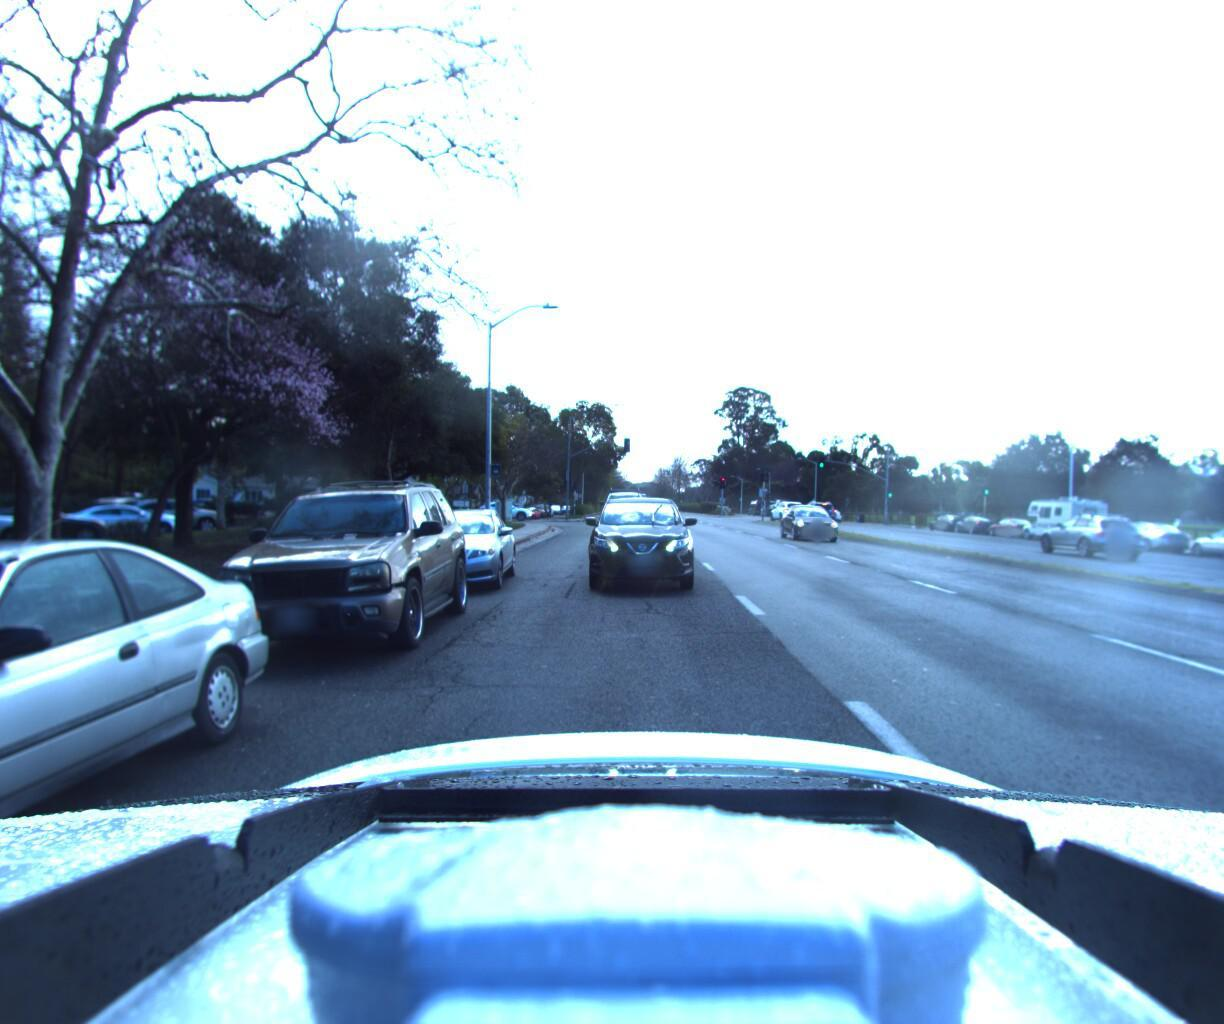car: (0, 524, 288, 1024), (191, 473, 470, 672), (570, 499, 692, 606), (381, 513, 514, 608), (1011, 517, 1125, 564), (1093, 528, 1194, 566), (780, 507, 849, 549), (598, 489, 649, 534), (1173, 530, 1224, 575), (978, 522, 1043, 547), (942, 520, 999, 544), (792, 510, 837, 536), (473, 508, 527, 529), (761, 508, 800, 532)
other_vehicle: (1008, 501, 1105, 552)
